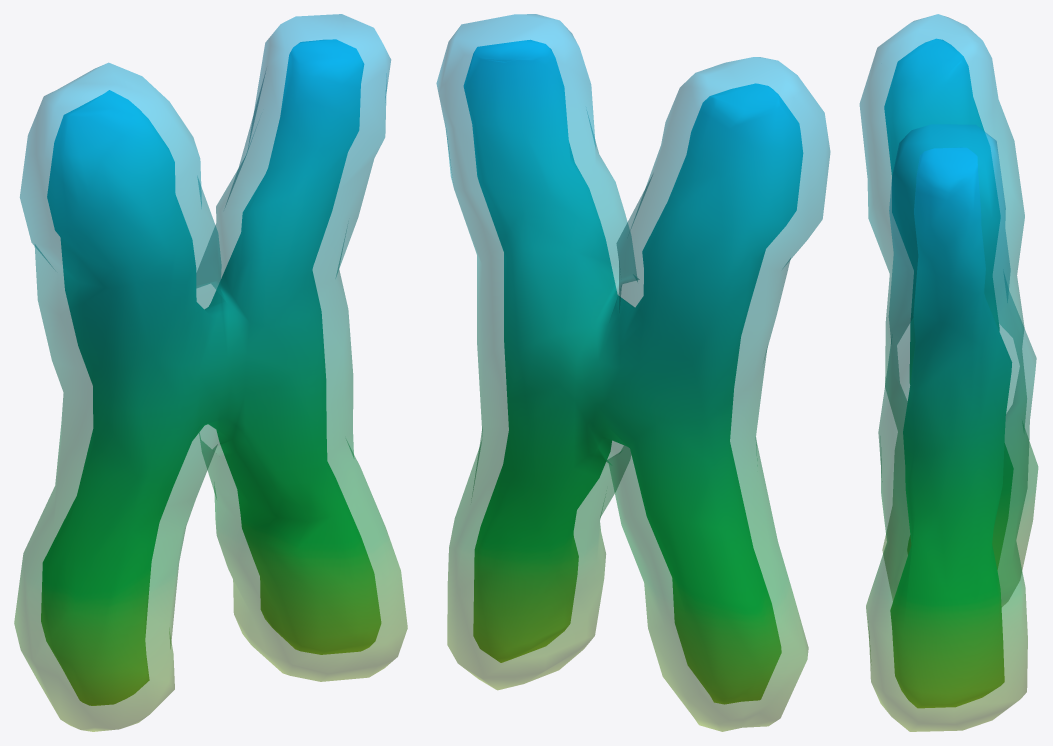
The model's file is capsule_contents_007.glb.
3 views of the same model, side by side, from view 1: azimuth 30°, elevation 25°; view 2: azimuth 150°, elevation 25°; view 3: azimuth 270°, elevation 25° (orthographic). The views are drawn at different scales.
Parts seen in each view (by area): view 1: Сapsule_contents_007; view 2: Сapsule_contents_007; view 3: Сapsule_contents_007.
Part boxes in pixels (box(x1,y1,x2,y2)): Сapsule_contents_007: box(14, 14, 407, 731); Сapsule_contents_007: box(436, 14, 830, 731); Сapsule_contents_007: box(859, 14, 1038, 731).
Size of the model in its own units: 0.7112 by 1.25 by 0.3388.
Materials: 2 (2 with a texture image).
